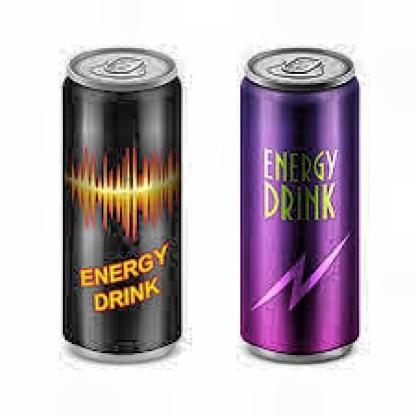Can: (235, 41, 367, 381), (56, 41, 190, 369)
